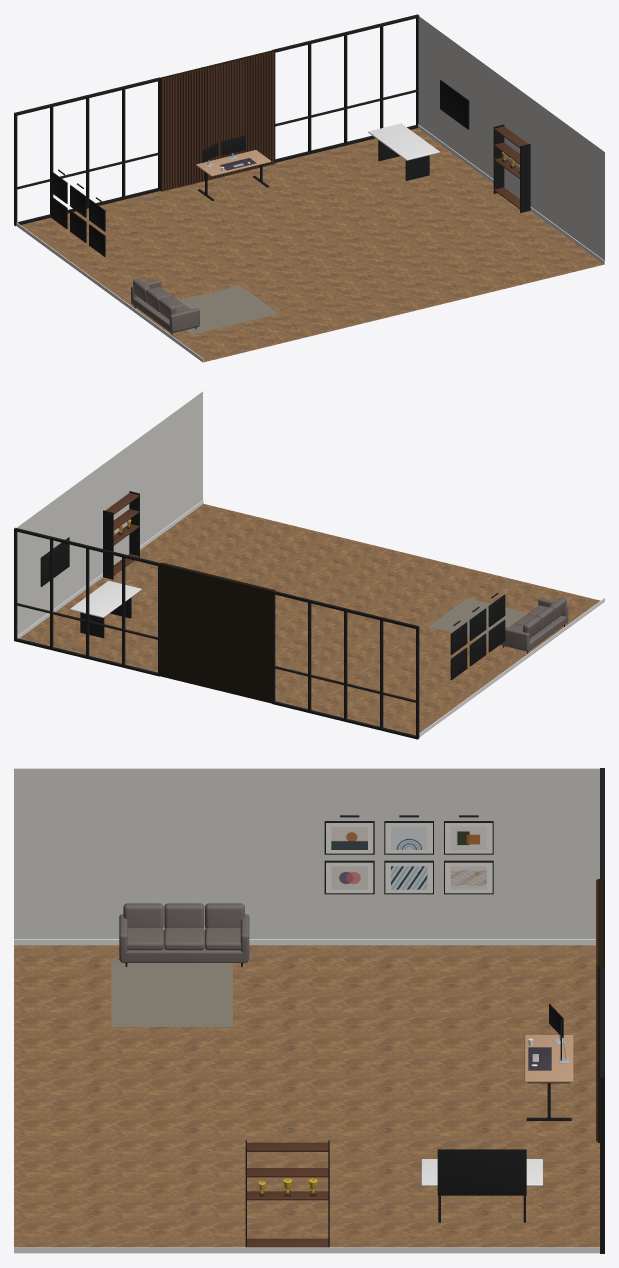
The model's file is office.glb.
3 renders of one model, top to bottom at view 1: azimuth 30°, elevation 25°; view 2: azimuth 150°, elevation 25°; view 3: azimuth 270°, elevation 25°, orthographic. The views are drawn at different scales.
Visible parts, largest first — view 1: office_baked; view 2: office_baked; view 3: office_baked.
Part boxes in pixels (box(x1,y1,x2,y2)): office_baked: box(14, 14, 604, 362); office_baked: box(14, 391, 604, 739); office_baked: box(14, 768, 604, 1253).
Bounding box in the file's own units: 12.05 × 3.2 × 9.72.
8 materials, 8 textured.
